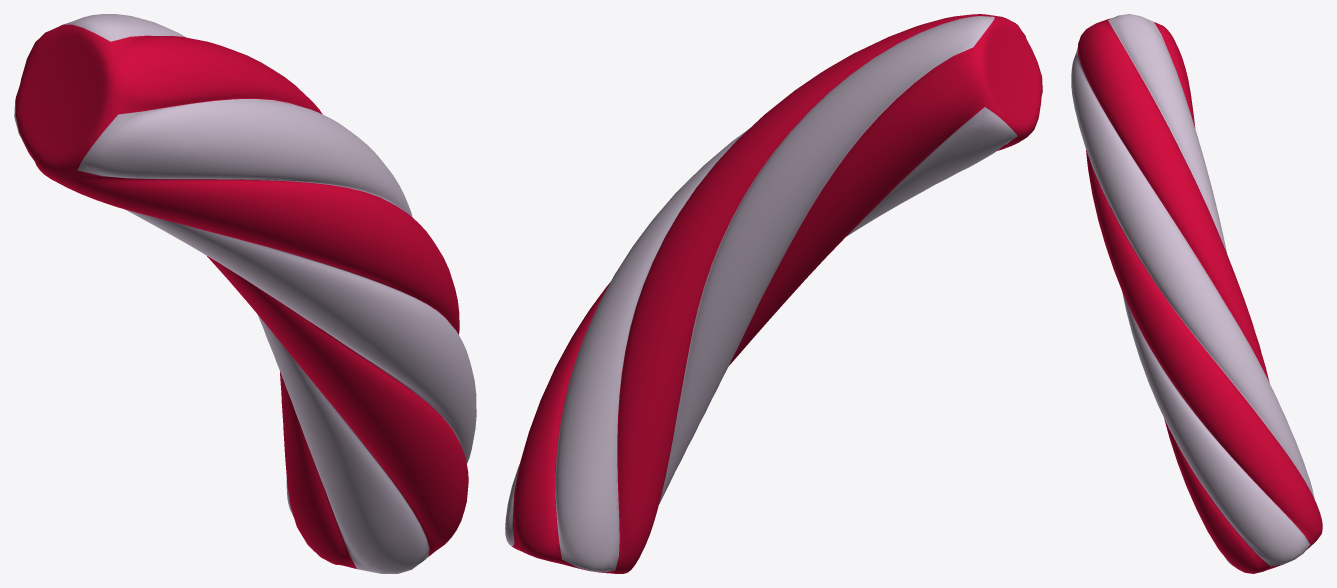
Rendered from twister_004.obj.
3 views of the same model, side by side, from view 1: azimuth 30°, elevation 25°; view 2: azimuth 150°, elevation 25°; view 3: azimuth 270°, elevation 25° (orthographic). The views are drawn at different scales.
Visible parts, largest first — view 1: twister.004; view 2: twister.004; view 3: twister.004.
Boxes of the visible parts, x1,y1,x2,y2 form: twister.004: [14, 14, 476, 573]; twister.004: [505, 14, 1042, 573]; twister.004: [1071, 14, 1322, 573].
Size of the model in its own units: 1.03 by 1.31 by 0.6913.
